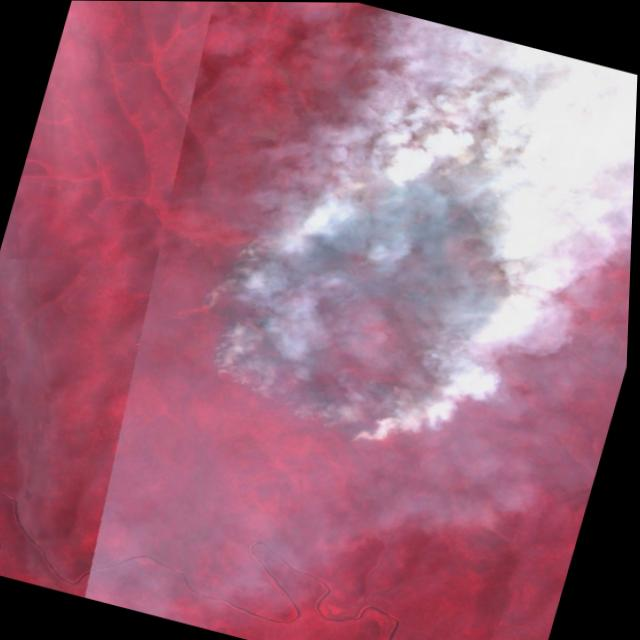fire: (157, 107, 584, 487)
